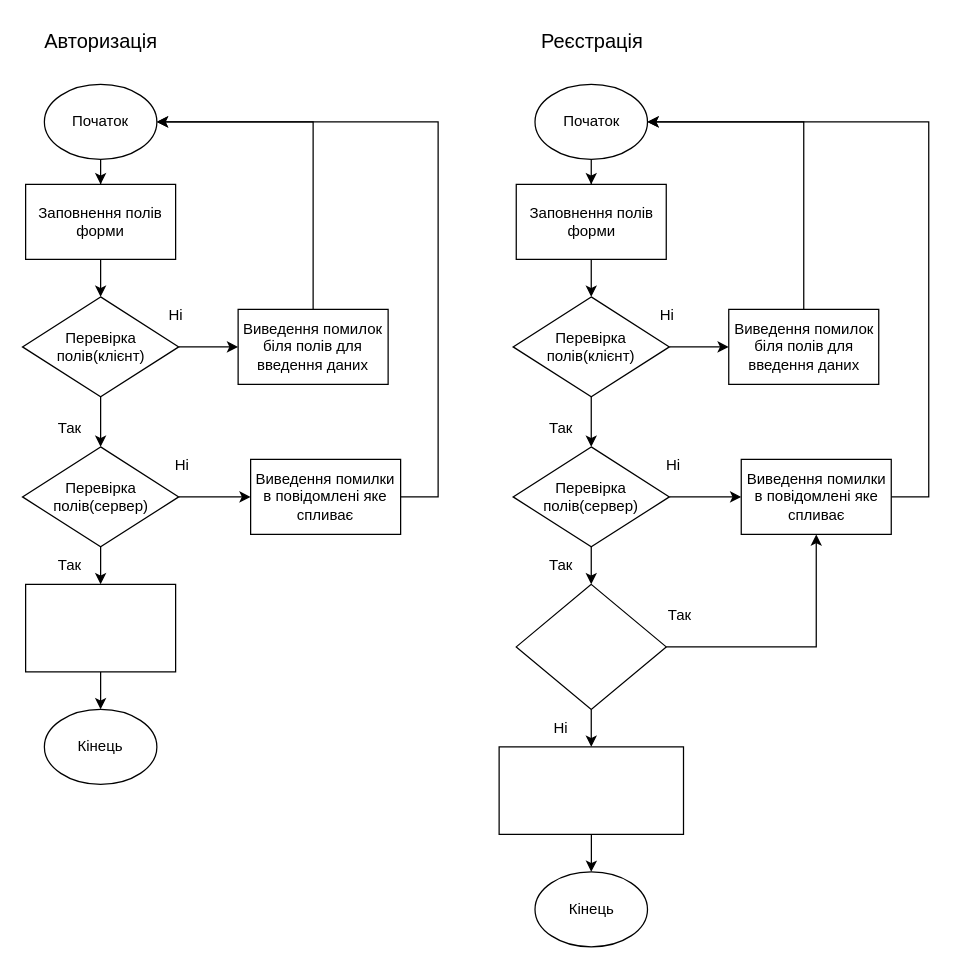
Image size: 960x969. Some labels were removed from this diagram. The box of each missing label's shape, as (x1, y1, x2, y2) in pixels:
Відправка запиту на сервер для отримання токенів авторизації: (24, 583, 176, 672)
Відправка запиту на сервер для створення користувача та автоматичної авторизації: (498, 746, 684, 834)
Чи існує вже користувач з таким username або поштою: (515, 583, 666, 709)
